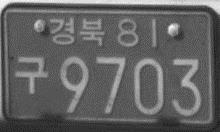0: (132, 56, 165, 116)
1: (147, 17, 161, 46)
3: (168, 55, 203, 119)
7: (93, 55, 127, 116)
8: (116, 18, 139, 48)
9: (59, 54, 90, 114)
경북_O: (47, 16, 106, 47)
구: (12, 54, 49, 94)
